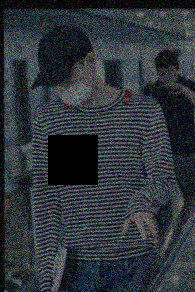mask_weared_incorrect: (51, 62, 91, 105)
without_mask: (156, 64, 178, 86)
